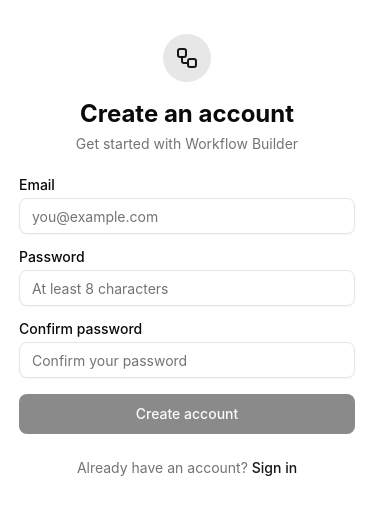
Register › shows error when passwords do not match
Type "test@example.com" into the field labelled "Email" at (187, 216), box [19,198,355,234]
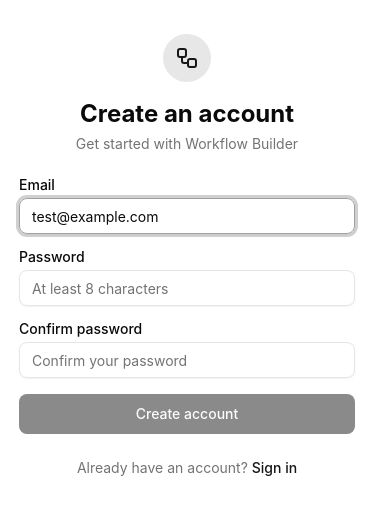
Type "password123" into the password field labelled "Password" at (187, 288), box [19,270,355,306]
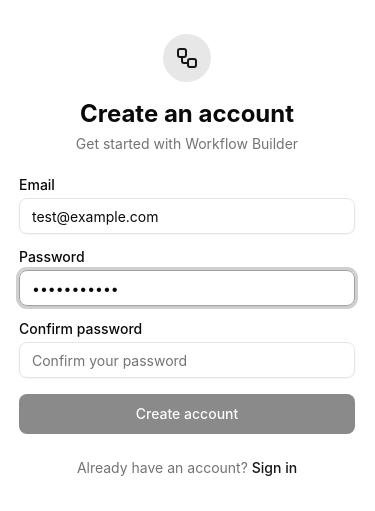
Type "different" into the password field labelled "Confirm password" at (187, 360), box [19,342,355,378]
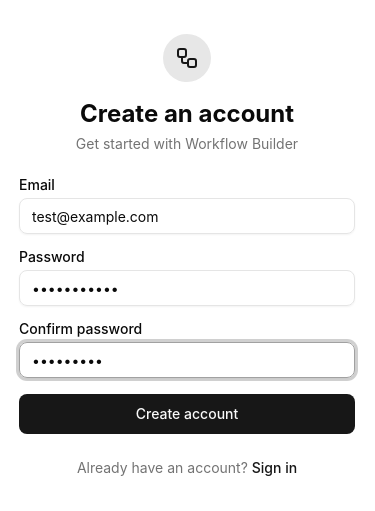
Click the button "Create account" at (187, 414), box [19,394,355,434]
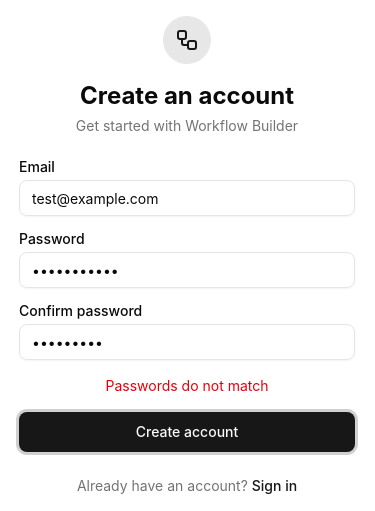
Expected: the text "Passwords do not match" is shown, [106,377,269,394]
